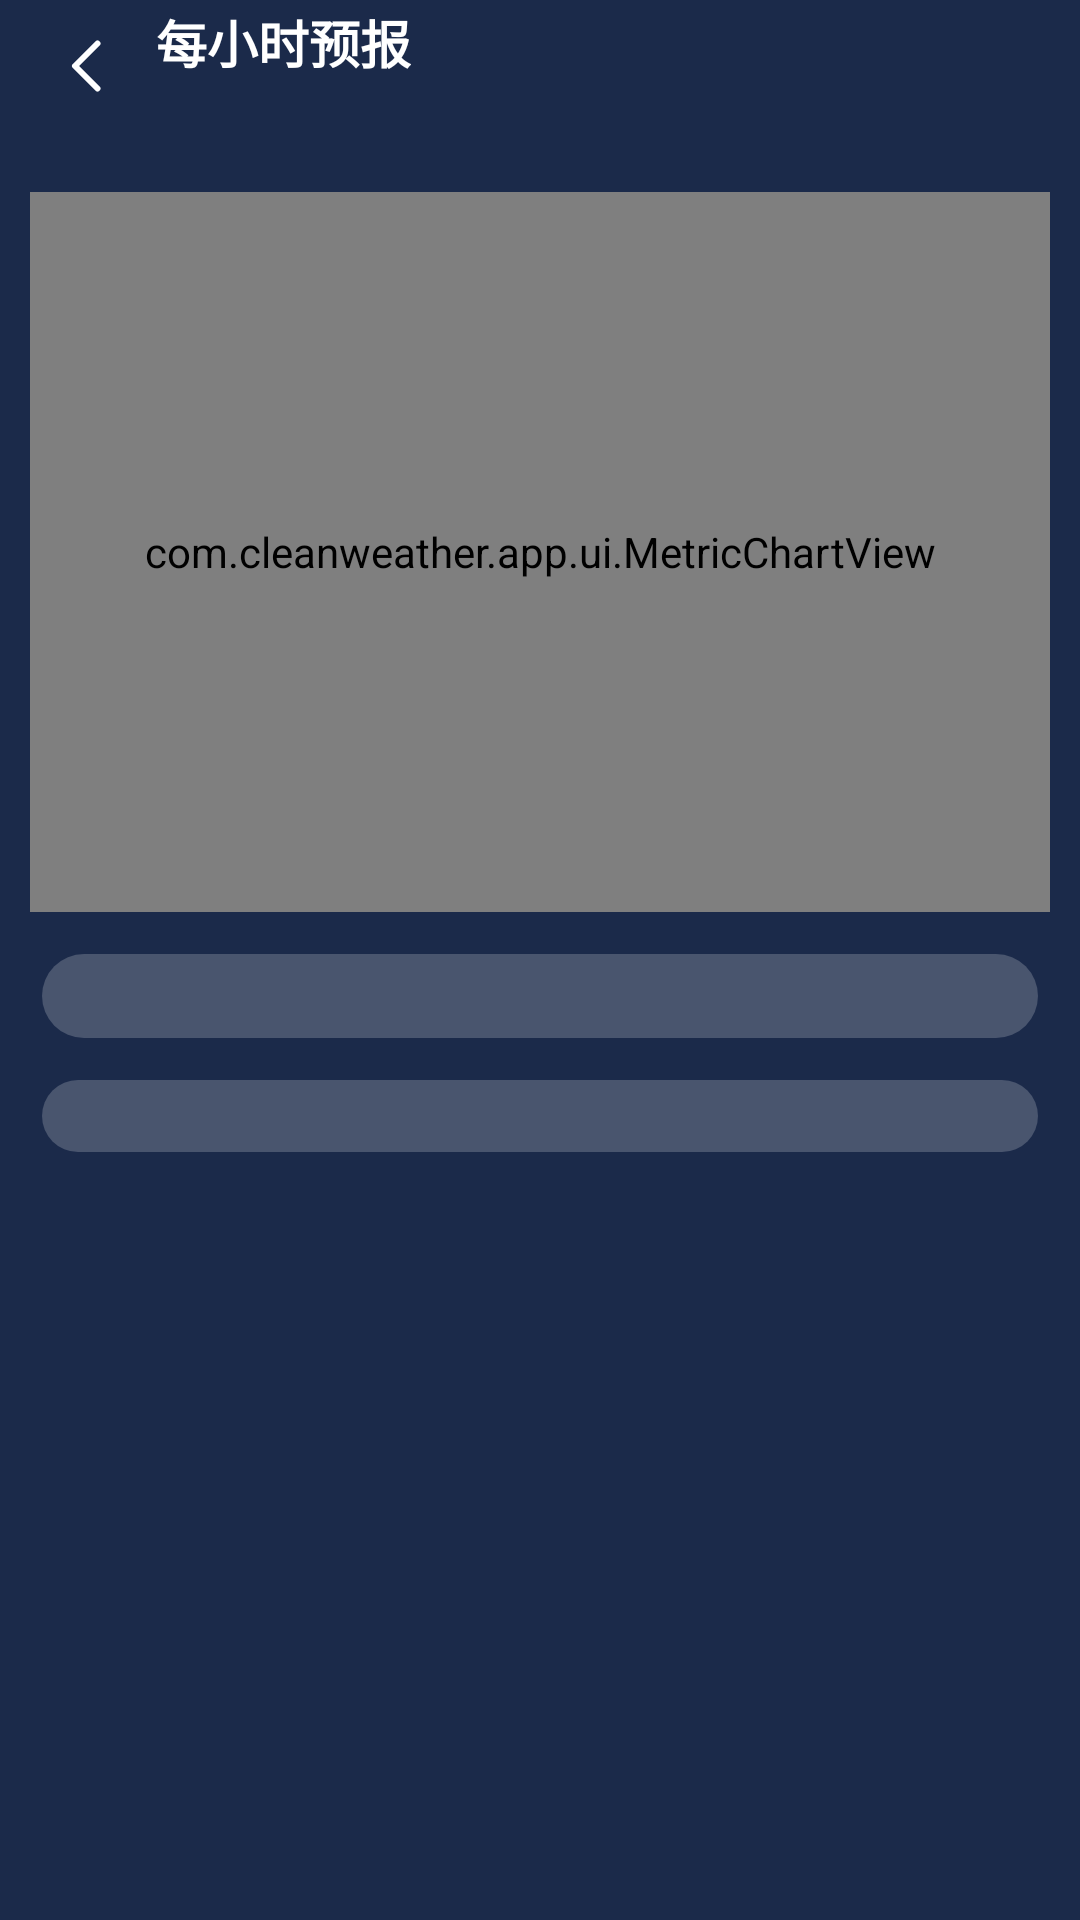

Where icons sit on this 1080*1920 app screen, as (x1, y1, x2, y2):
返回: (72, 40, 101, 92)
